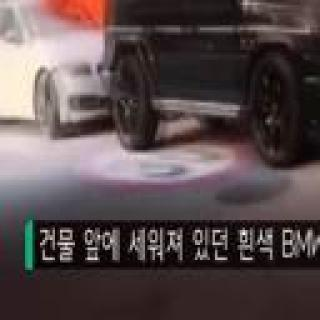fire: (63, 0, 111, 21)
